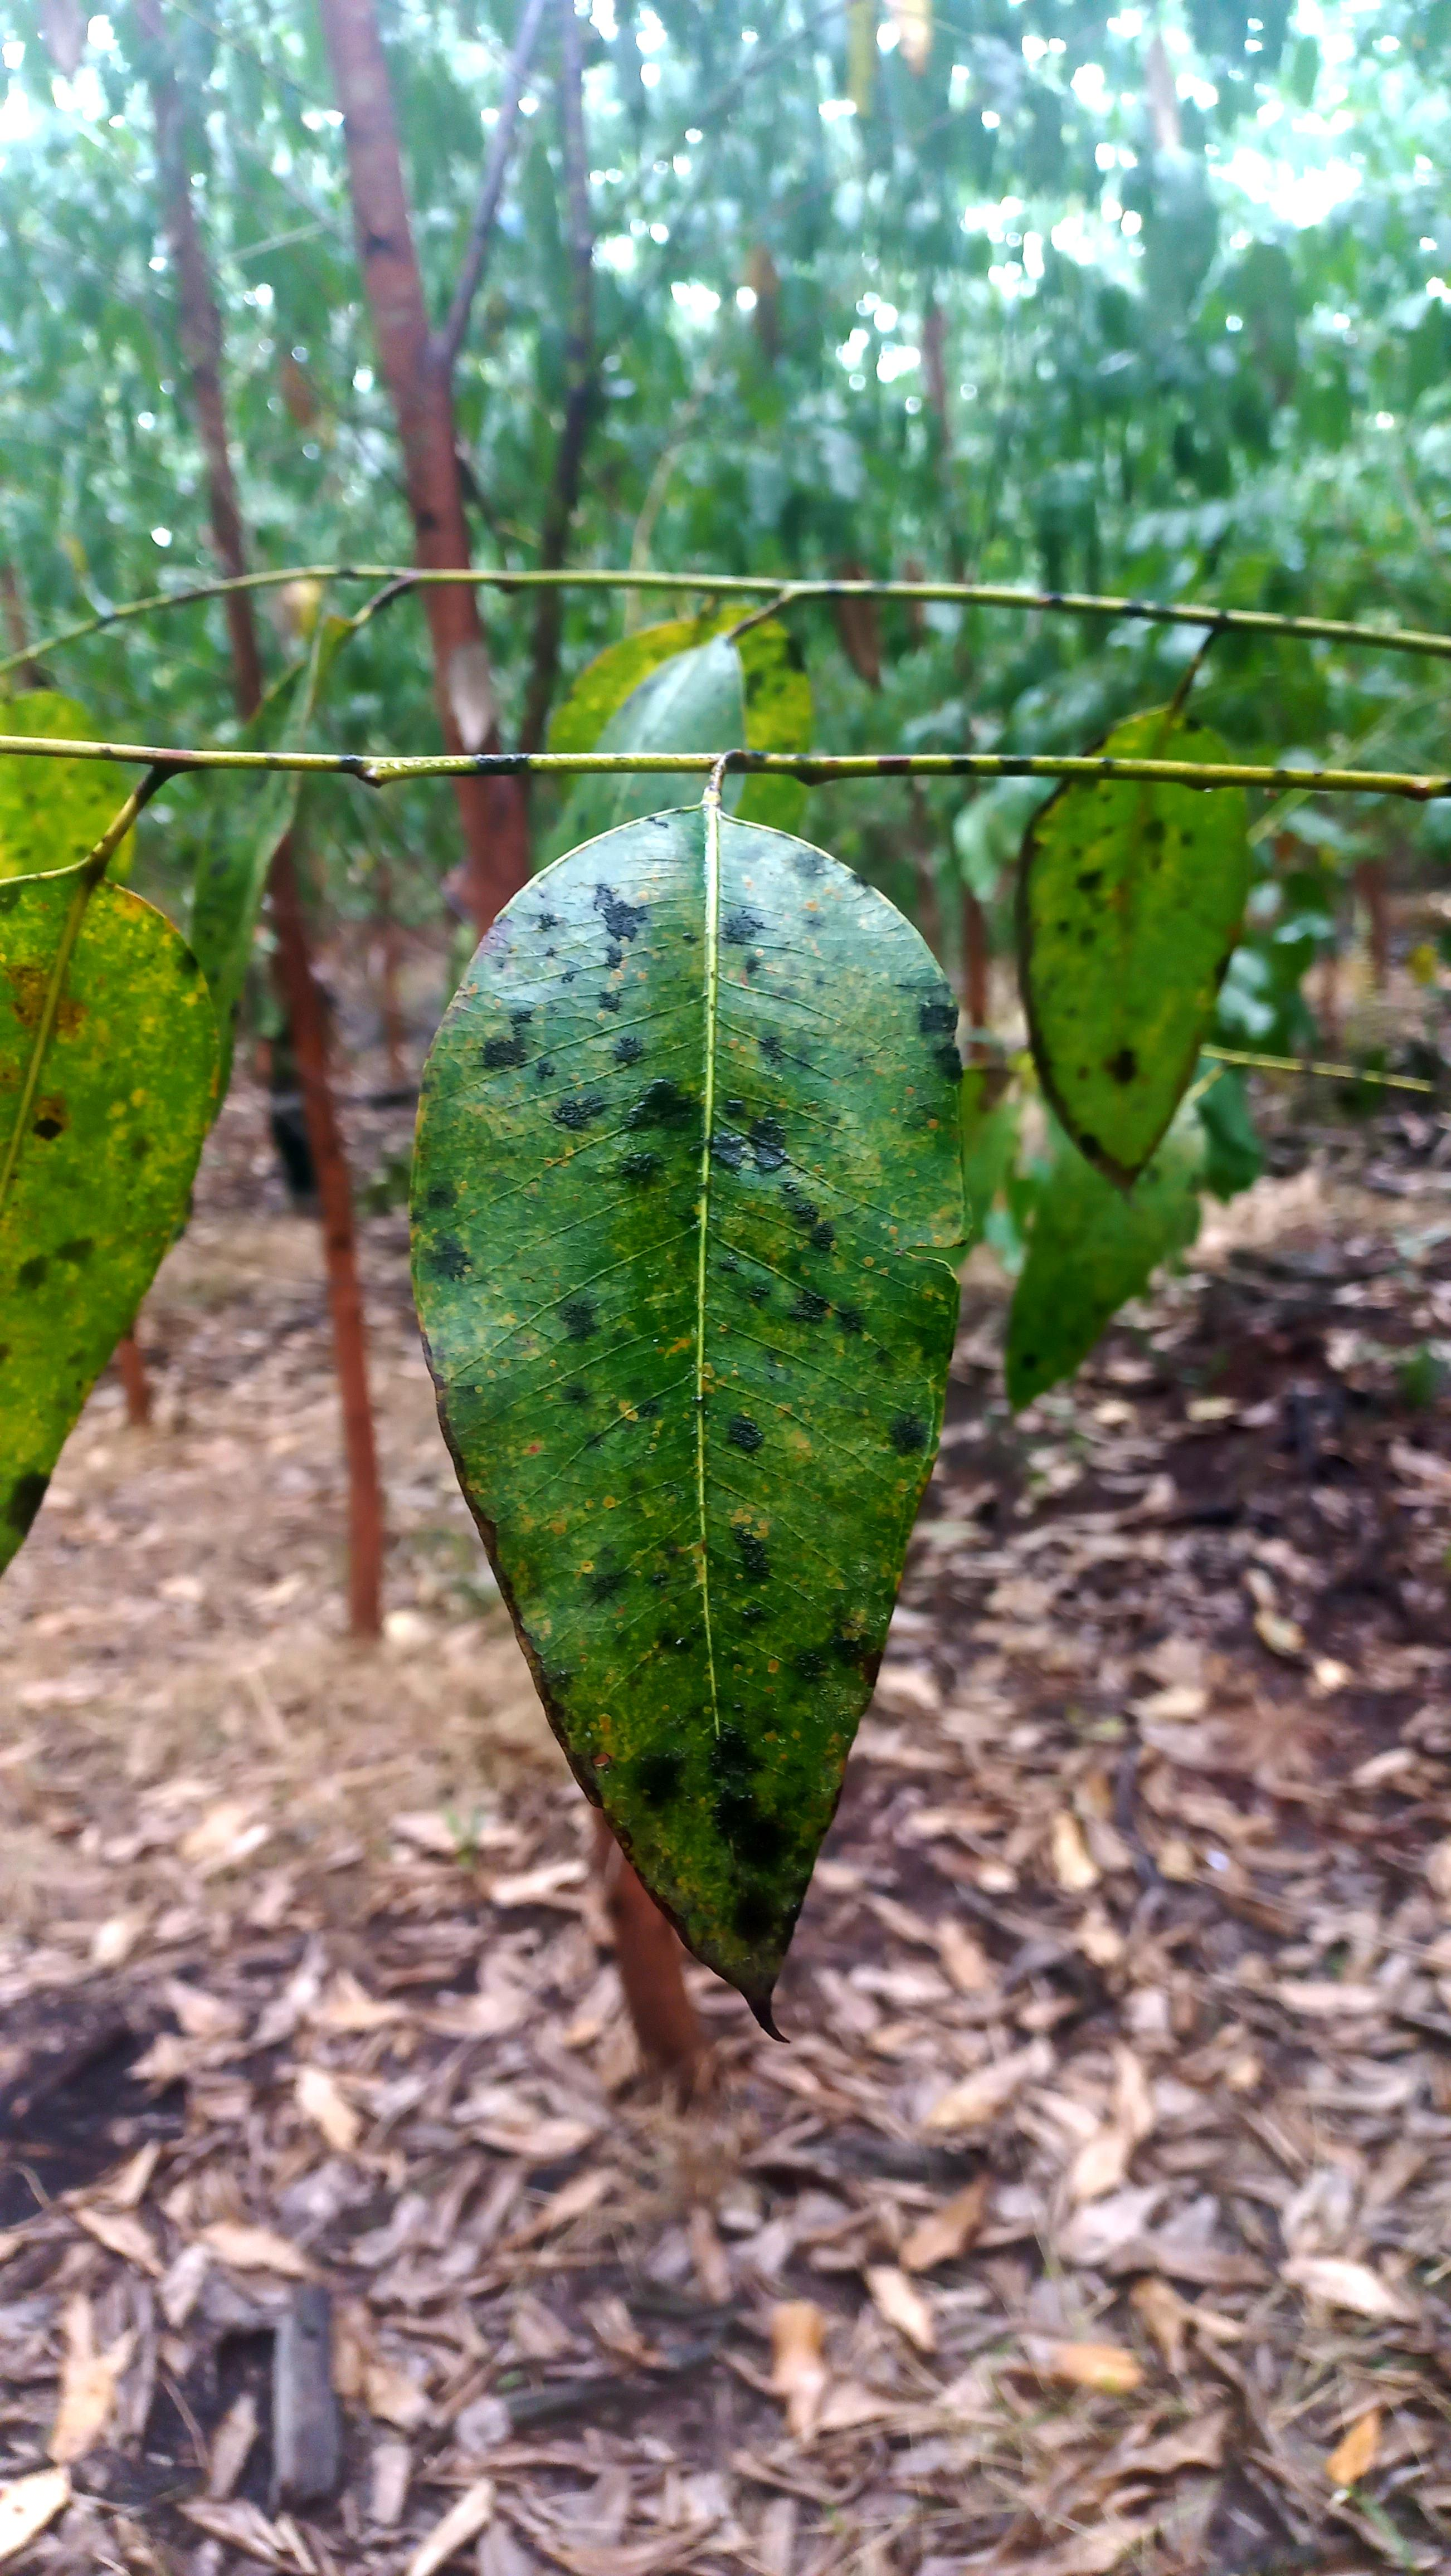Cylindrocladium: (1010, 717, 1143, 1215)
Embun Jelaga: (403, 791, 975, 2008), (0, 1205, 111, 1552), (1062, 807, 1178, 1095), (11, 1077, 106, 1185)
